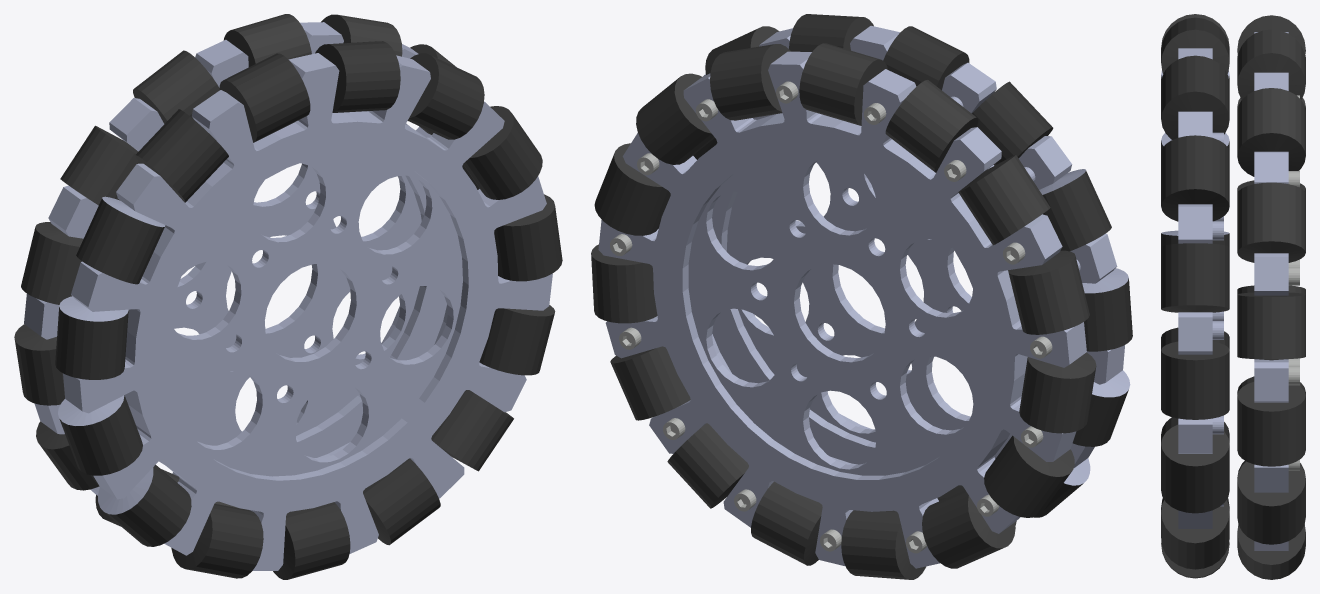
The picture shows the model from 3 angles, left to right: view 1: azimuth 30°, elevation 25°; view 2: azimuth 150°, elevation 25°; view 3: azimuth 270°, elevation 25°; orthographic projection.
Parts seen in each view (by area): view 1: wheels; view 2: wheels; view 3: wheels.
Boxes of the visible parts, x1,y1,x2,y2 form: wheels: (14,14,562,579); wheels: (591,14,1132,579); wheels: (1161,14,1305,579).
Size of the model in its own units: 0.1492 by 0.038 by 0.1485.
